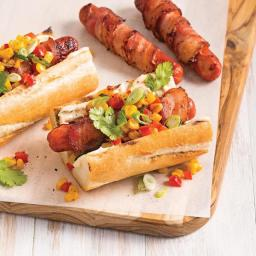hotdog: (57, 66, 206, 192), (0, 28, 92, 128)
